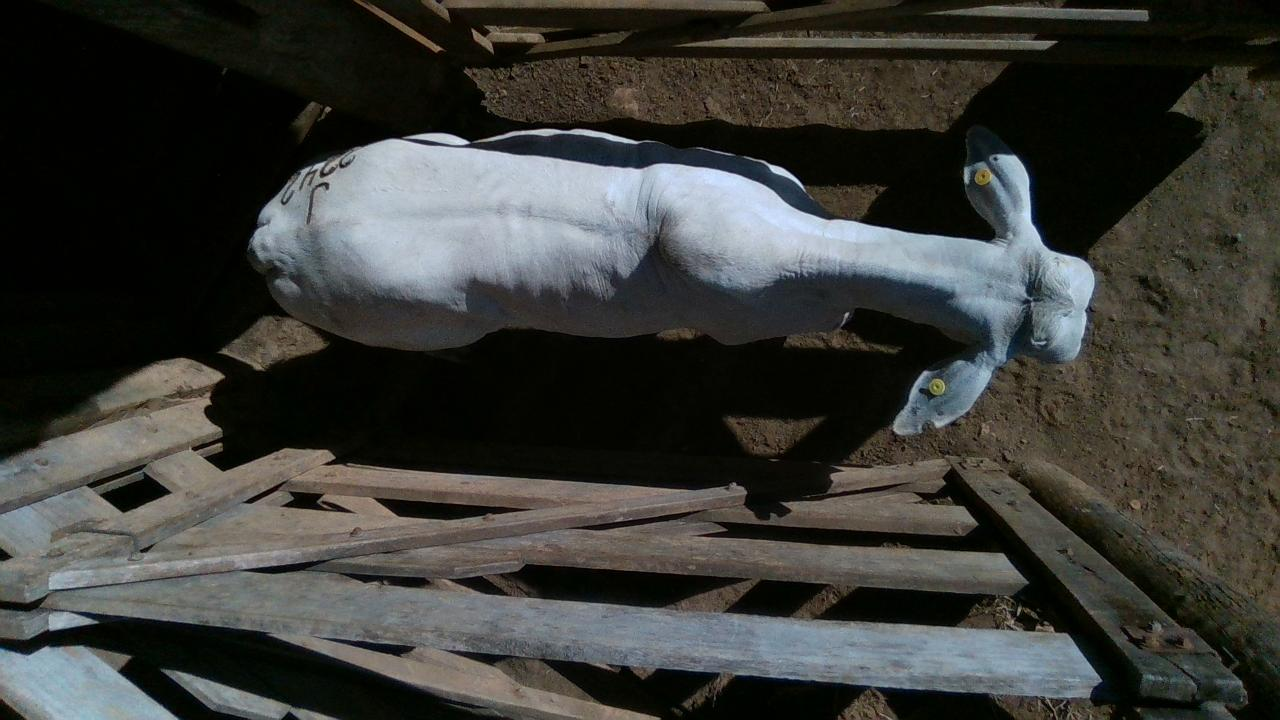cattle: (244, 123, 1096, 437)
